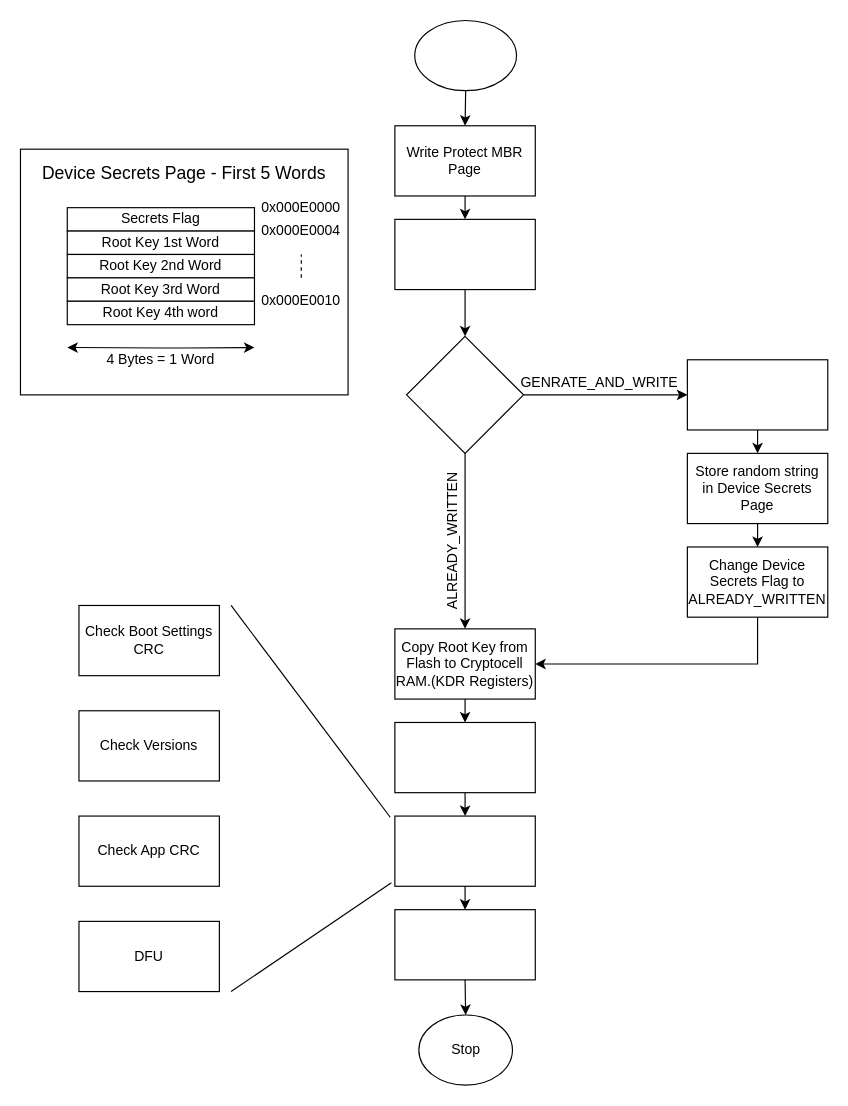
This 848x1106 diagram has some shape labels left out. Each missing label, with the centre of its shape:
Initialize App and Start App execution: pixel 464 944
Initialize Bootloader and start Bootloader execution: pixel 464 850
Read and Write Protect Device Secrets Page: pixel 464 757
Read Device Secrets Flag: pixel 464 394
Start: pixel 465 55
Use Cryptocell RNG for 16 byte random string.: pixel 757 394
Write Protect Bootloader Memory area: pixel 464 254
